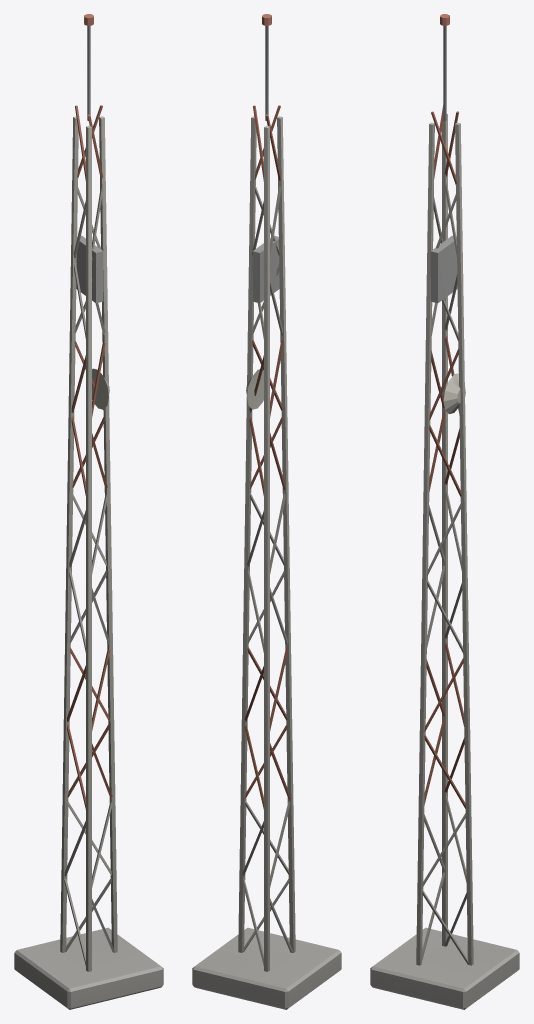
Rendered from mil_mast.glb.
The picture shows the model from 3 angles, left to right: view 1: azimuth 30°, elevation 25°; view 2: azimuth 150°, elevation 25°; view 3: azimuth 330°, elevation 25°; orthographic projection.
Parts seen in each view (by area): view 1: mil_mast; view 2: mil_mast; view 3: mil_mast.
Boxes of the visible parts, box(x1,y1,x2,y2) form: mil_mast: box(14, 14, 163, 1009); mil_mast: box(192, 14, 341, 1009); mil_mast: box(370, 14, 519, 1009).
Size of the model in its own units: 2.6 by 24.9 by 2.6.
